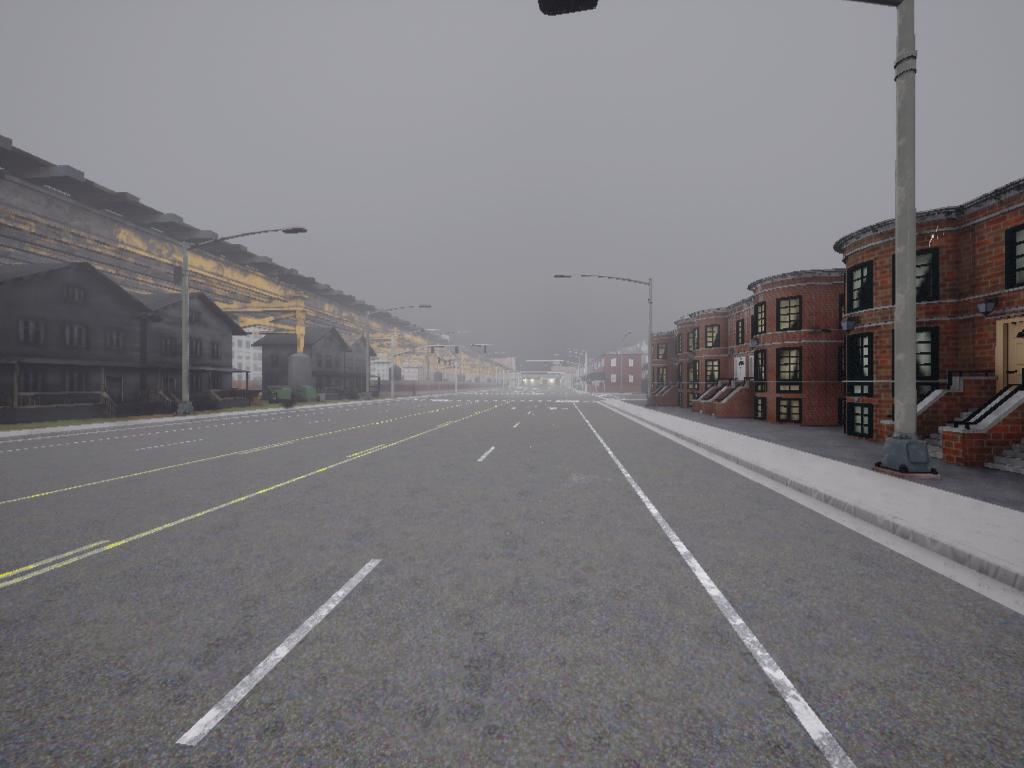traffic_light: (534, 1, 603, 15), (444, 359, 448, 368), (456, 347, 460, 355), (449, 360, 453, 368), (432, 348, 435, 356), (560, 361, 563, 369), (545, 362, 548, 369), (485, 346, 487, 355), (439, 358, 441, 365)
